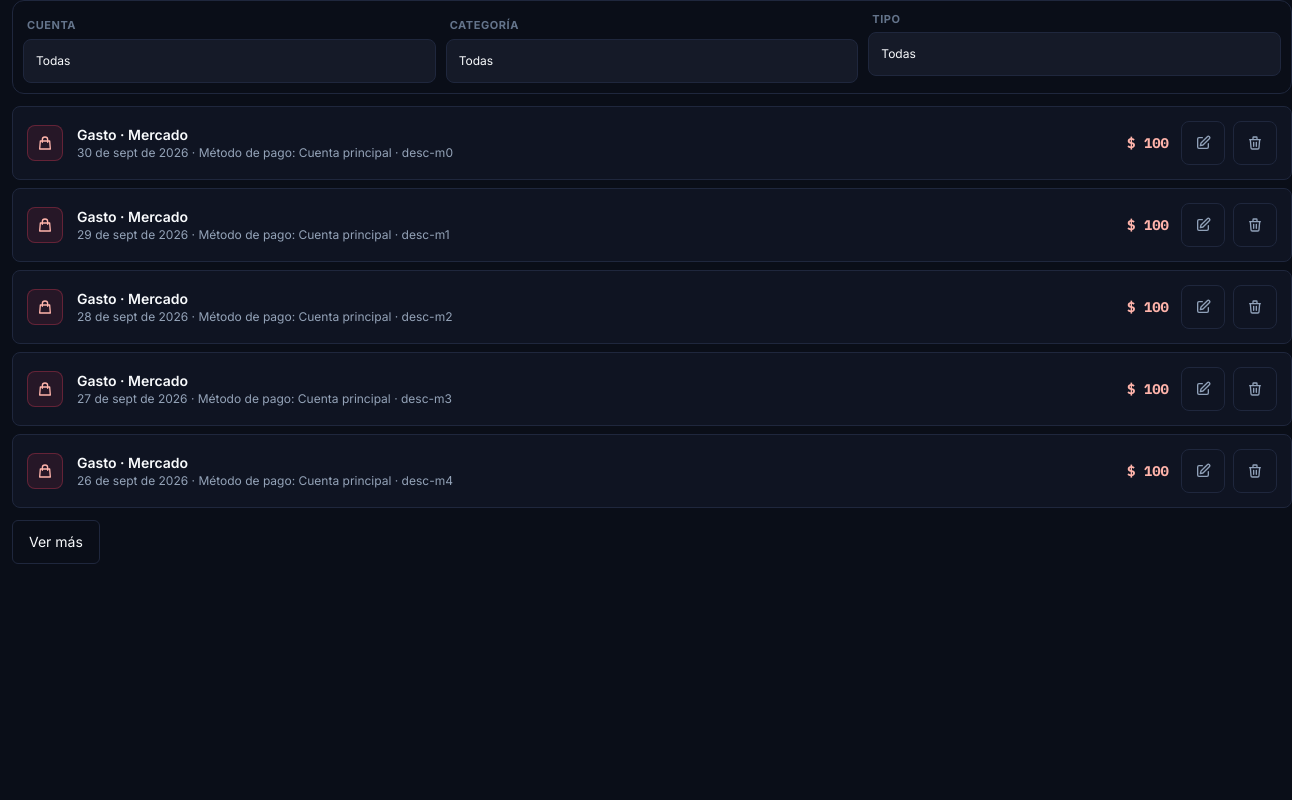
Scenario: MovementHistory › appends ten rows per activation, accumulatively, without replacing them
Expected: the number of list items is 5, [12, 106, 1291, 180]; [12, 188, 1291, 262]; [12, 270, 1291, 344]; [12, 352, 1291, 426]; [12, 434, 1291, 508]
Click the button "Ver más".
click(56, 542)  # box [12, 520, 100, 564]
(page scrolled)
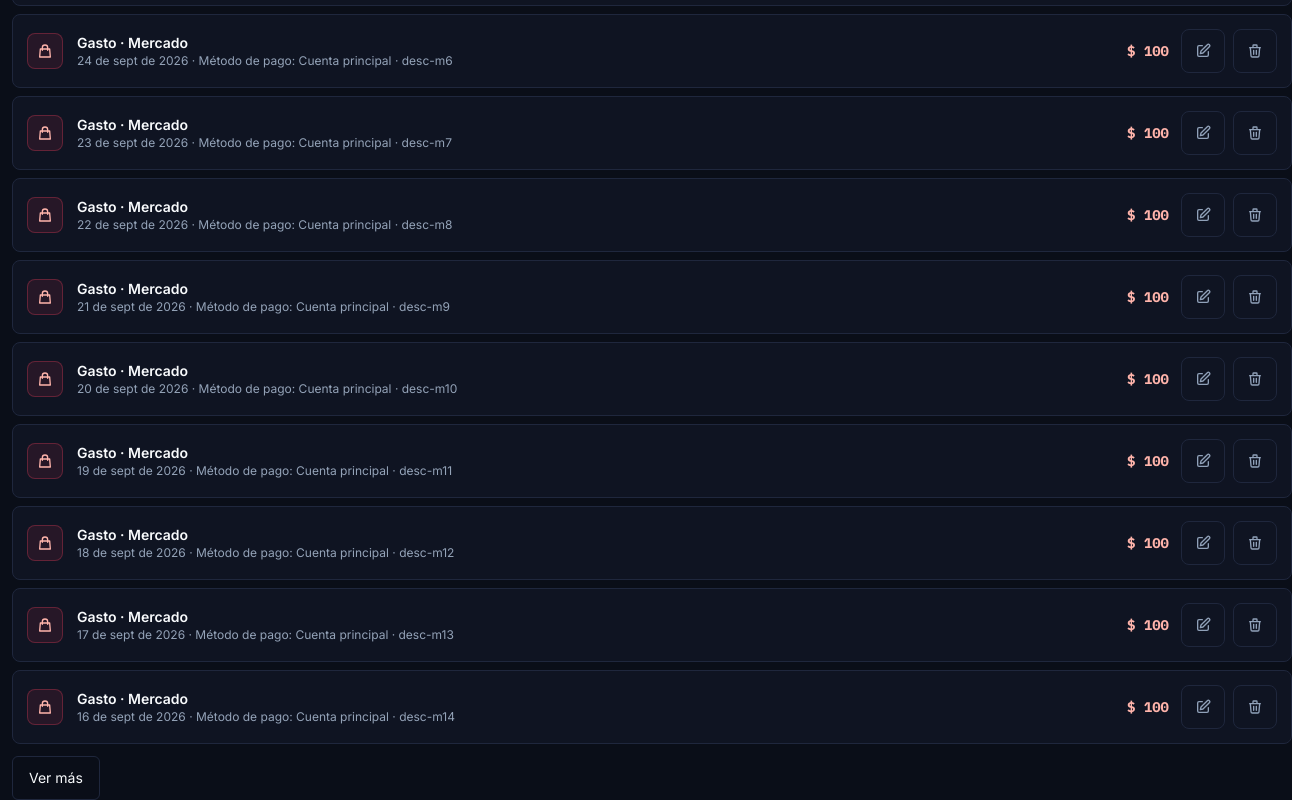
Expected: the number of list items is 15
Expected: the text "desc-m14" is shown, [389, 709, 455, 724]
Click the button "Ver más".
click(56, 778)  # box [12, 756, 100, 799]
(page scrolled)
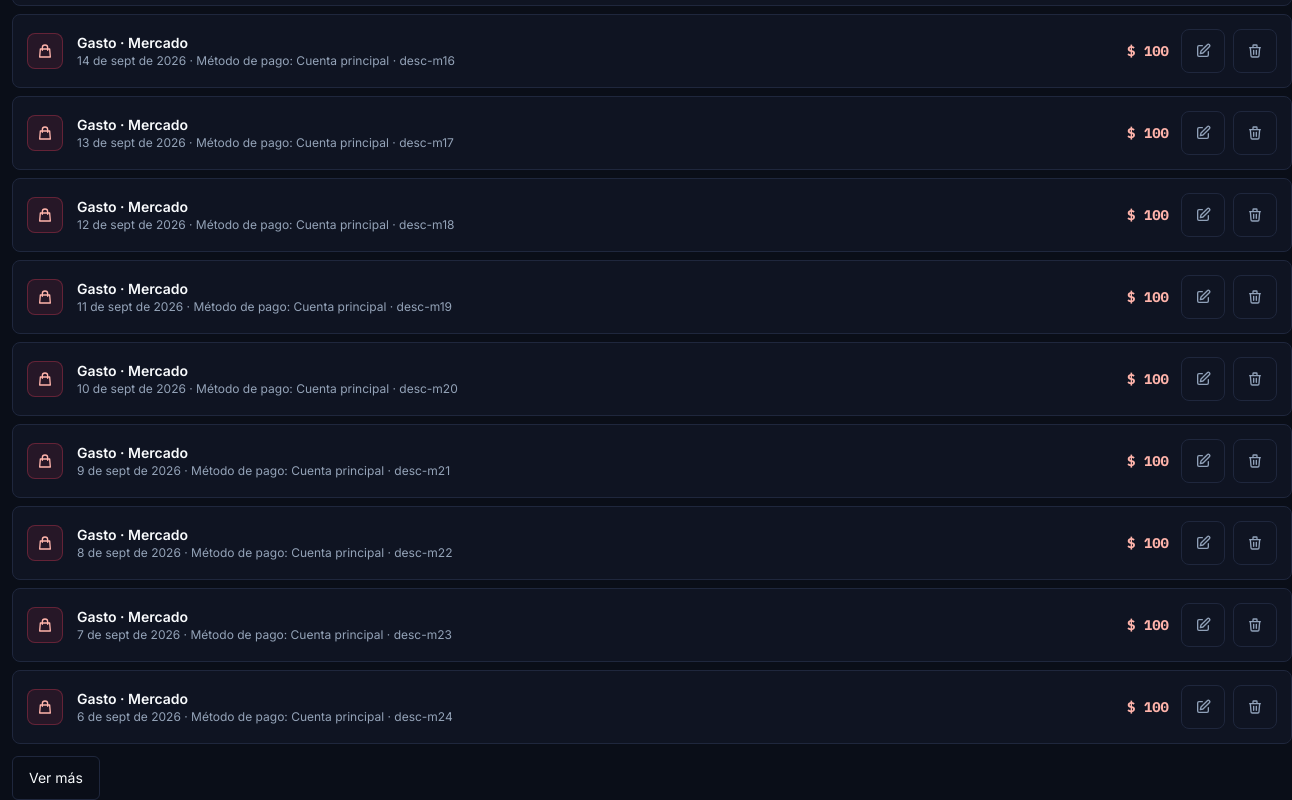
Click the button "Ver más".
click(56, 778)  # box [12, 756, 100, 799]
(page scrolled)
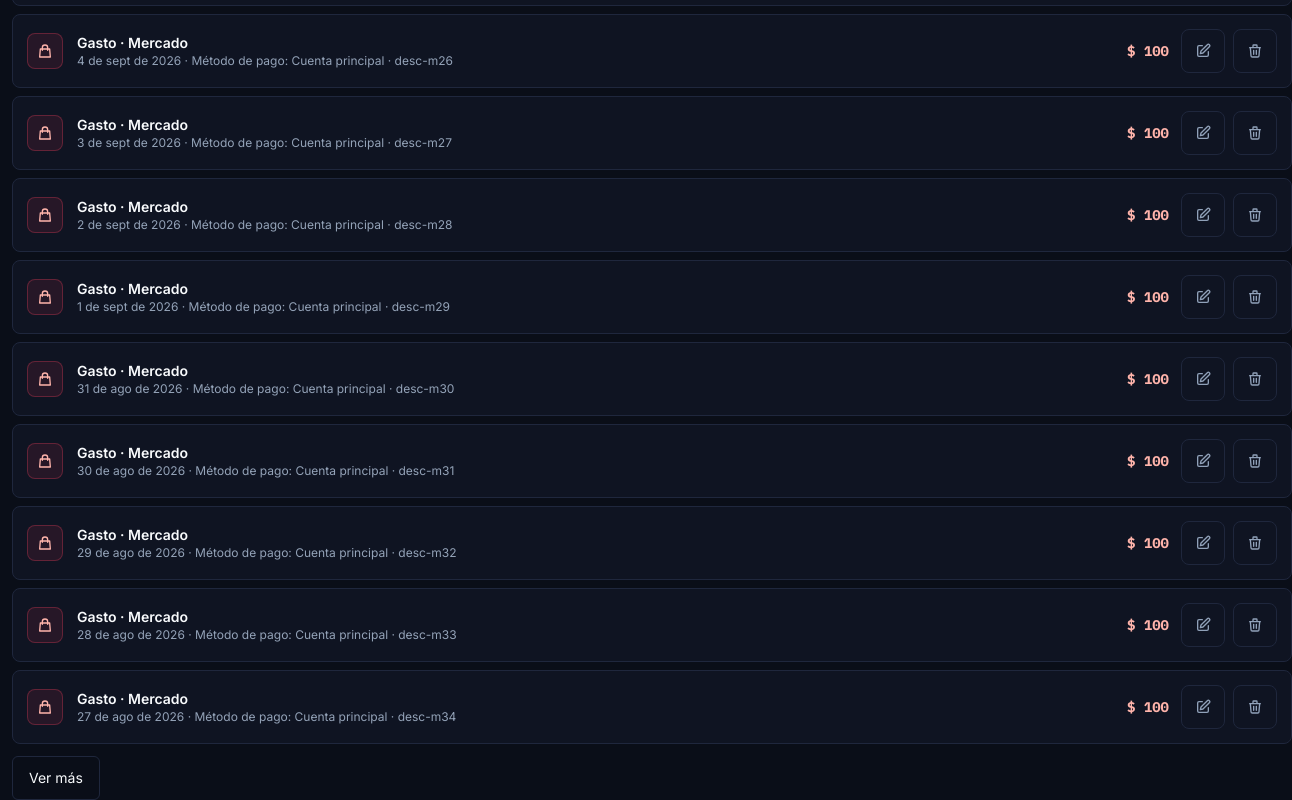
Expected: the text "desc-m34" is shown, [387, 709, 456, 724]
